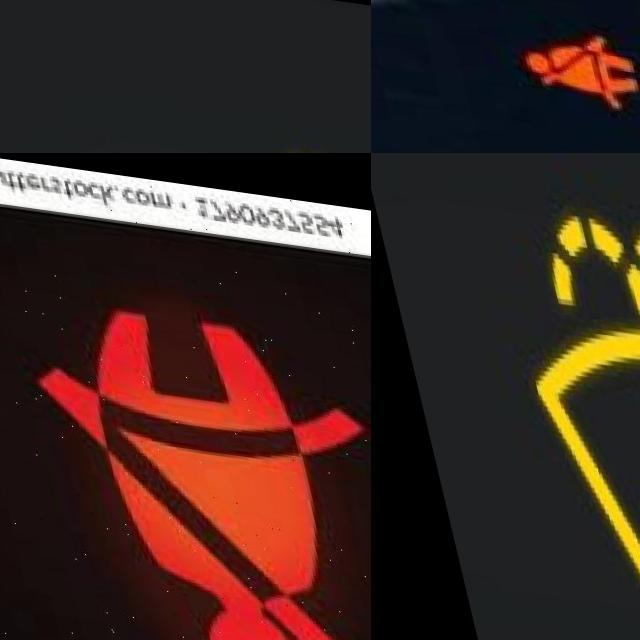Seat Belt: (17, 294, 371, 640), (506, 19, 629, 100)
Washer Fluid: (482, 201, 640, 635)
